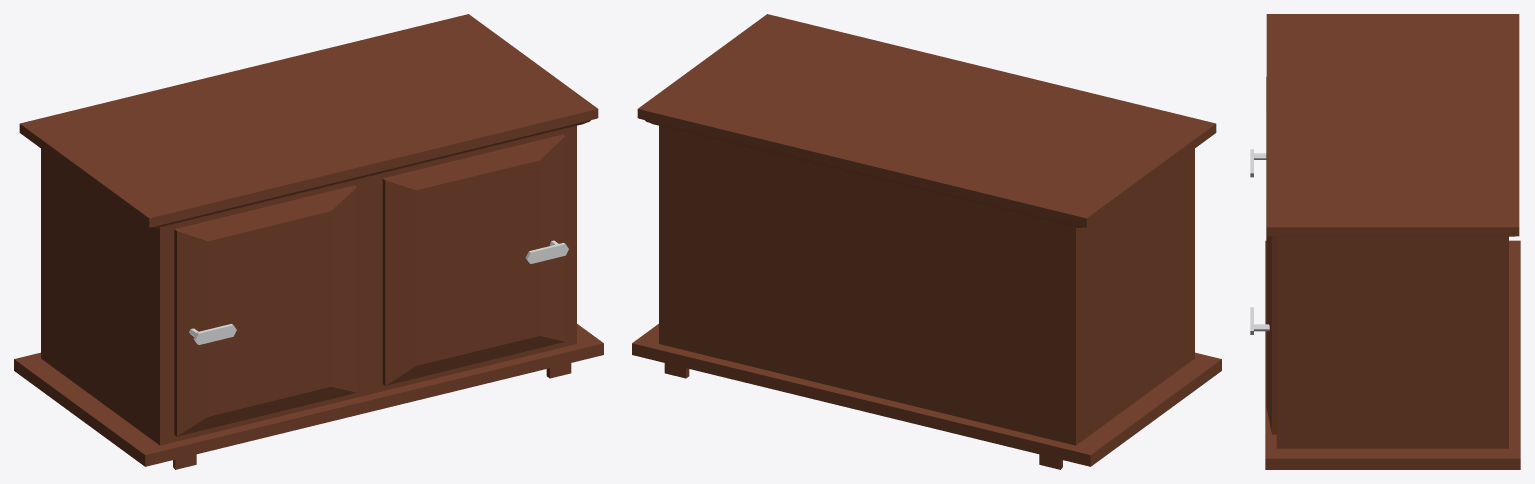
Rendered from LP_P_Cabinet.fbx.
3 renders of one model, left to right at view 1: azimuth 30°, elevation 25°; view 2: azimuth 150°, elevation 25°; view 3: azimuth 270°, elevation 25°, orthographic. The views are drawn at different scales.
Visible parts, largest first — view 1: Cube.001; view 2: Cube.001; view 3: Cube.001.
Part boxes in pixels (x1,y1,x2,y2): Cube.001: [14, 14, 603, 469]; Cube.001: [632, 14, 1221, 469]; Cube.001: [1250, 14, 1520, 469].
Size of the model in its own units: 409 by 220 by 214.
